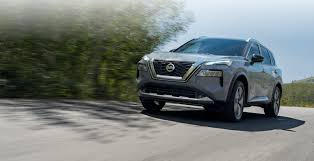Nissan: (138, 39, 277, 115)
